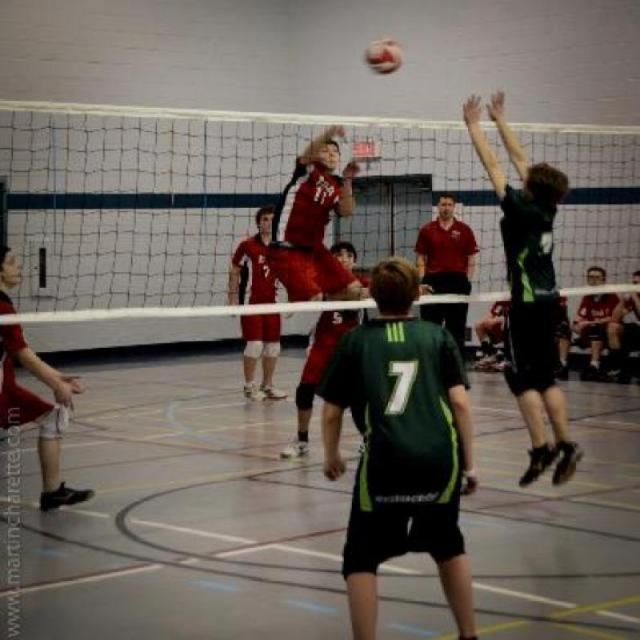volleyball: (364, 34, 404, 74)
